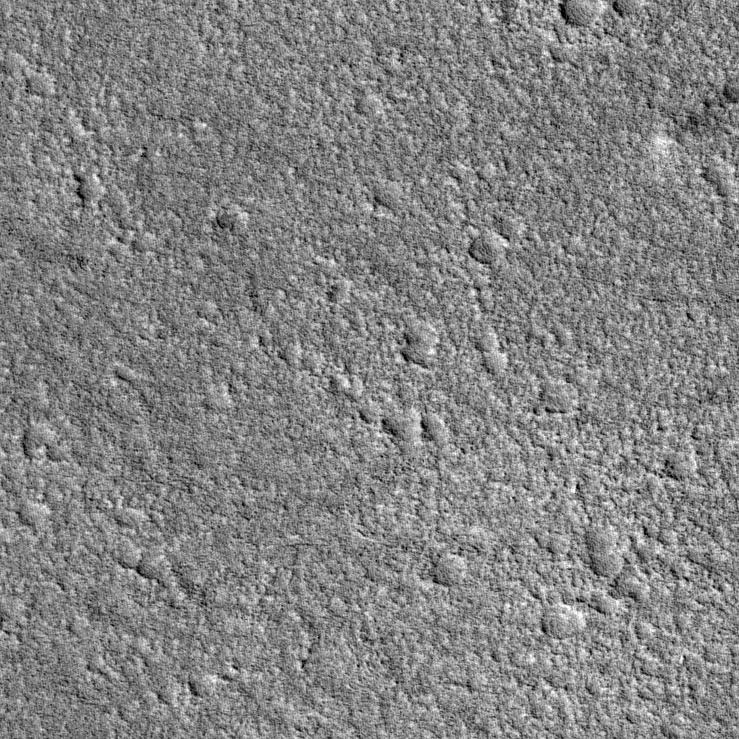dust_devil: (652, 84, 739, 157)
